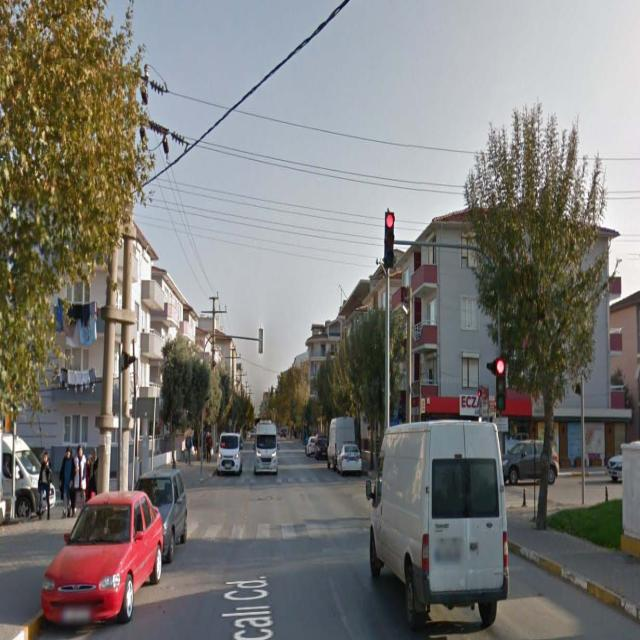kirmizi: (496, 359, 506, 410), (386, 210, 394, 264)
